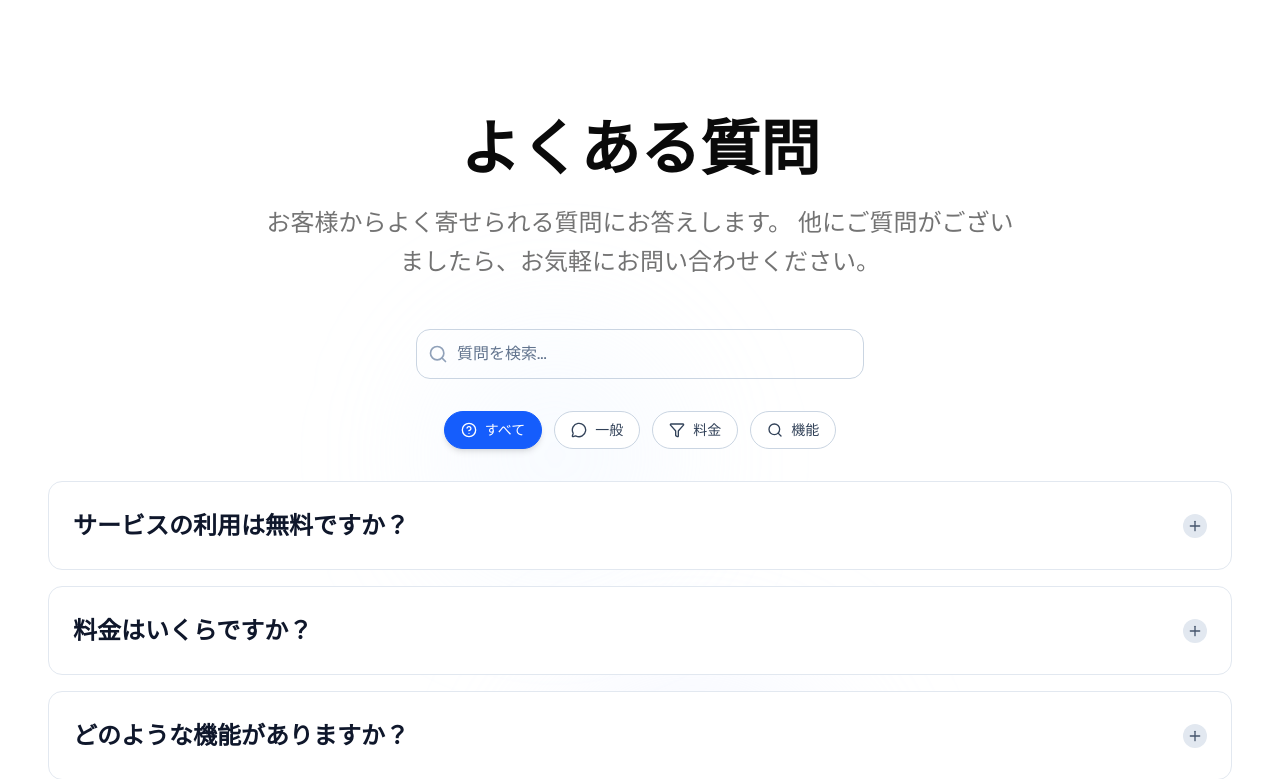
it: FAQSection › 検索結果がない場合のメッセージが表示される
Type "存在しない質問" into the field with test id "faq-search-input".
click(640, 354); type("存在しない質問")  # box [416,329,864,379]
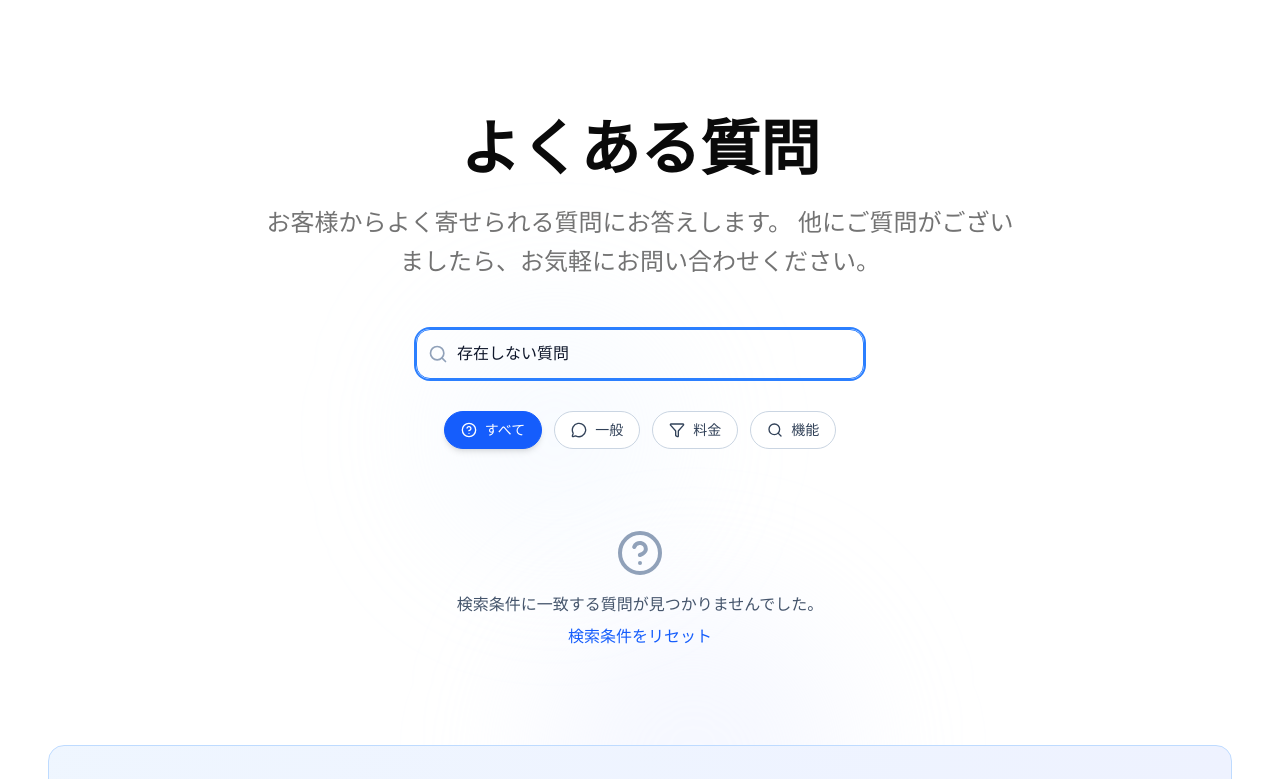
Check: the text "検索条件に一致する質問が見つかりませんでした。" is shown, box [457,594,823,615]
